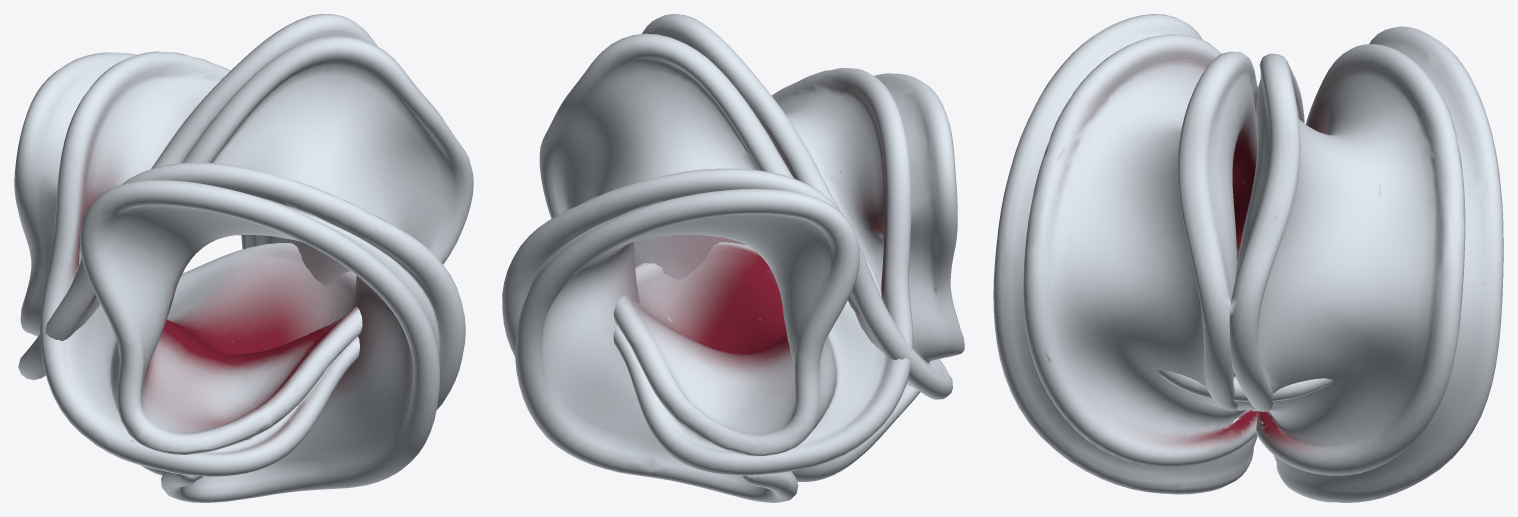
Rendered from pod_05.glb.
3 renders of one model, left to right at view 1: azimuth 30°, elevation 25°; view 2: azimuth 150°, elevation 25°; view 3: azimuth 270°, elevation 25°, orthographic. The views are drawn at different scales.
Parts seen in each view (by area): view 1: renji_Tripo_Sculpture; view 2: renji_Tripo_Sculpture; view 3: renji_Tripo_Sculpture.
Boxes of the visible parts, x1,y1,x2,y2 form: renji_Tripo_Sculpture: (14,14,473,502); renji_Tripo_Sculpture: (502,14,964,502); renji_Tripo_Sculpture: (993,14,1503,502).
Bounding box in the file's own units: 1.75 × 1.82 × 1.8.
Materials: 1 (1 with a texture image).
